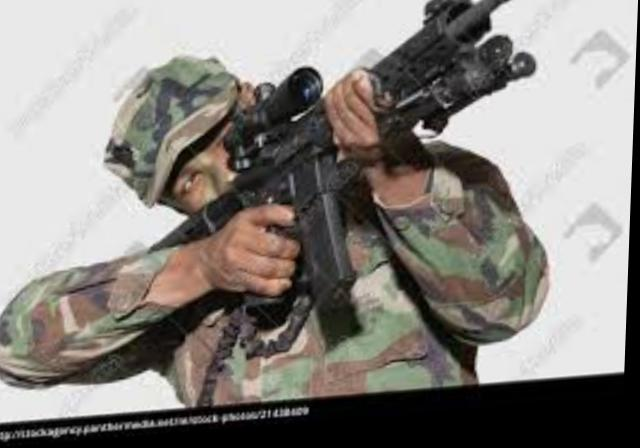other: (0, 45, 544, 419)
